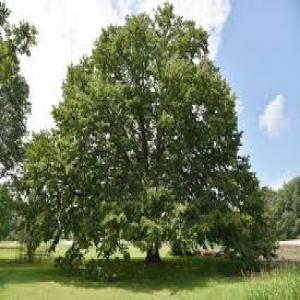Tree: (22, 3, 278, 264)
